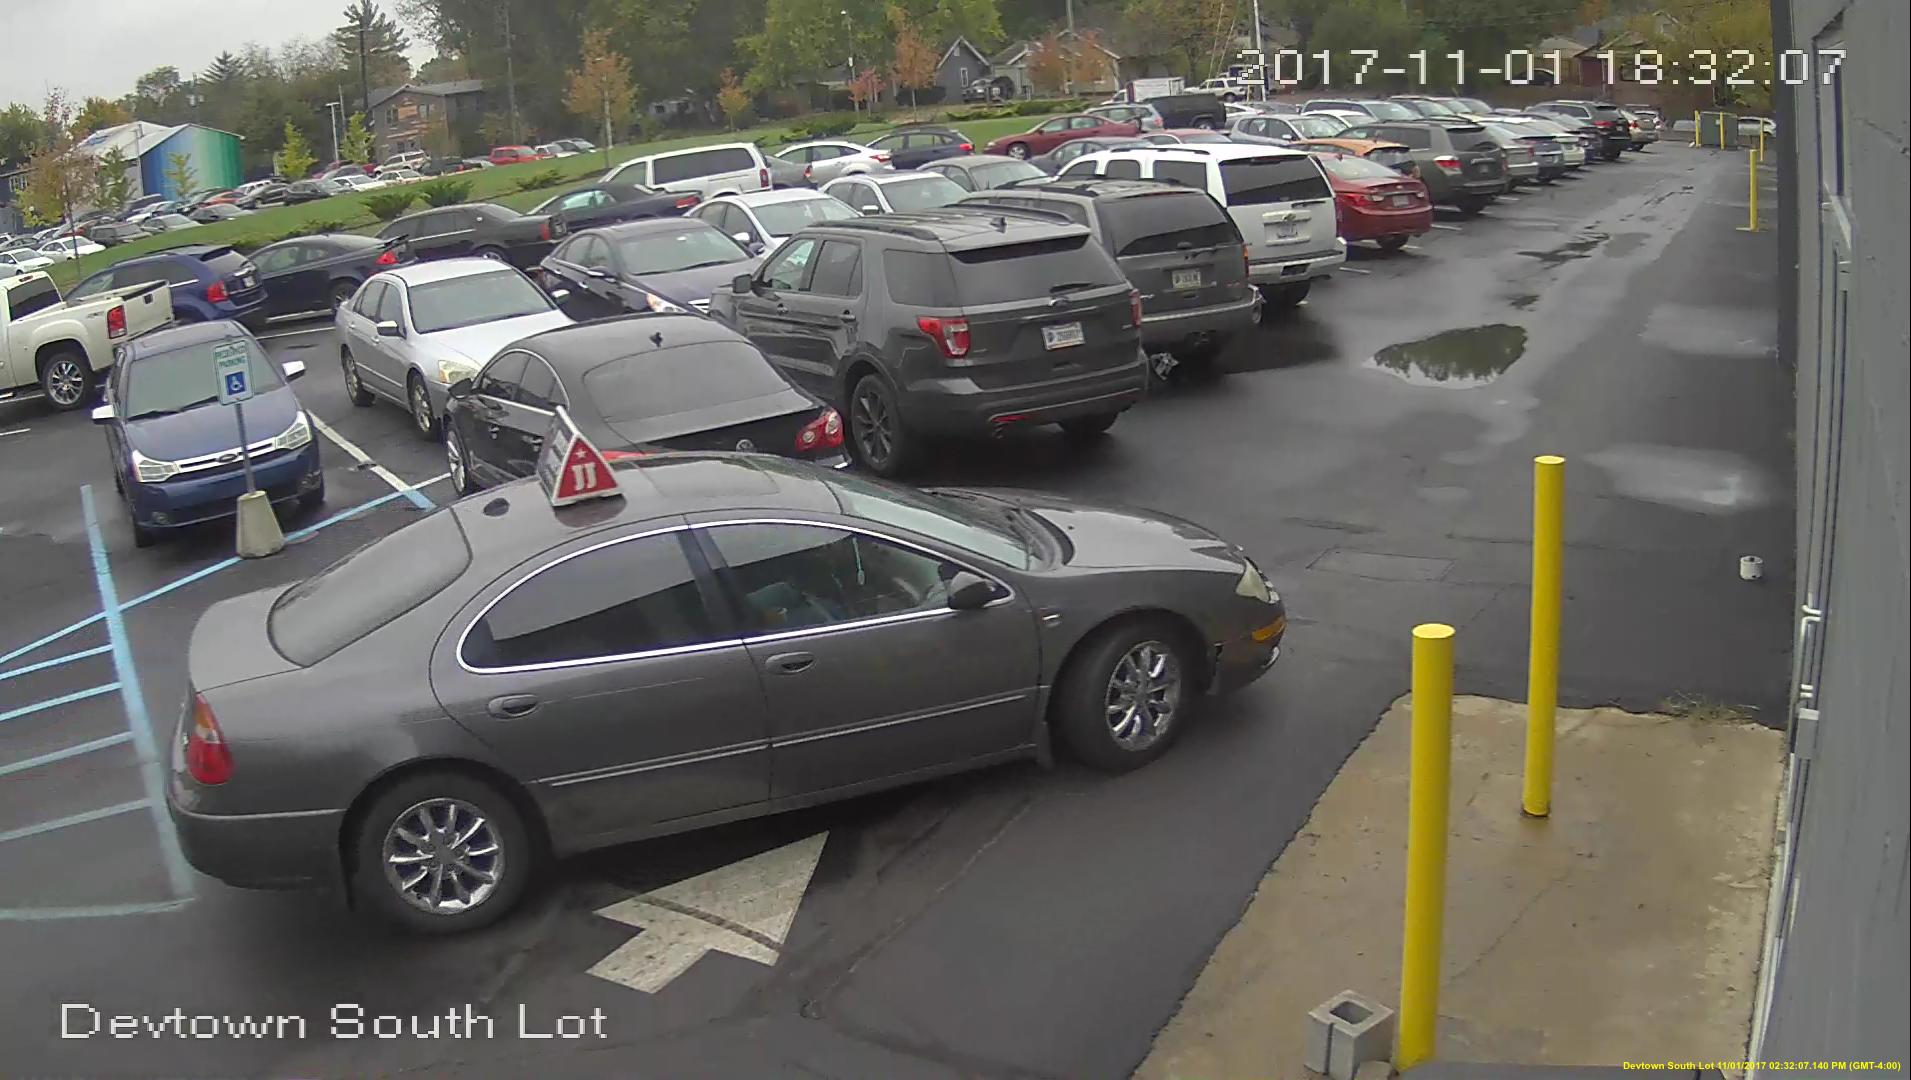jimmy_johns: (532, 400, 626, 518)
